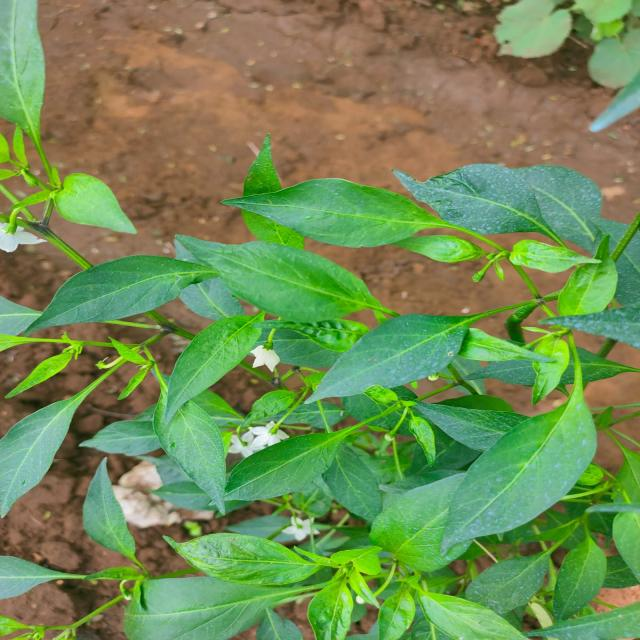Mosaic_virus: (0, 112, 640, 640)
